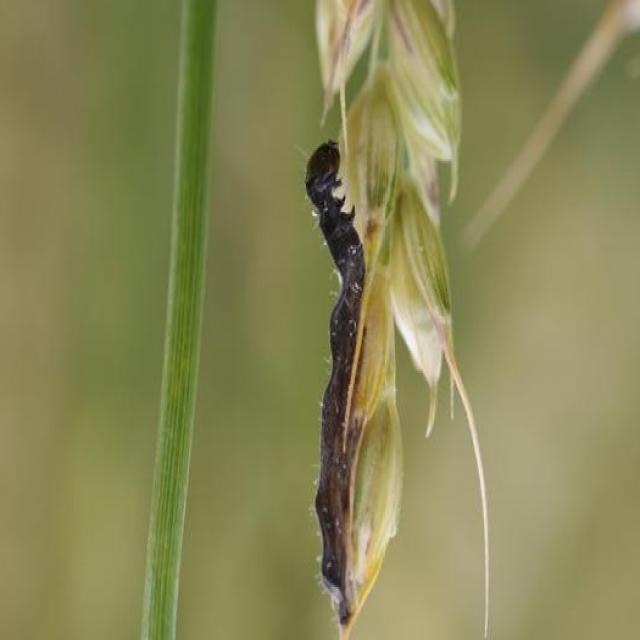army worm: (284, 133, 368, 612)
